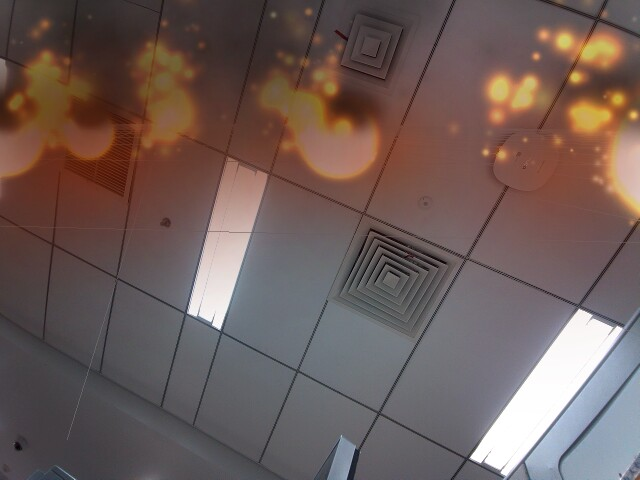fire: (299, 97, 382, 181), (0, 111, 51, 184), (608, 103, 638, 214), (65, 109, 114, 161)
